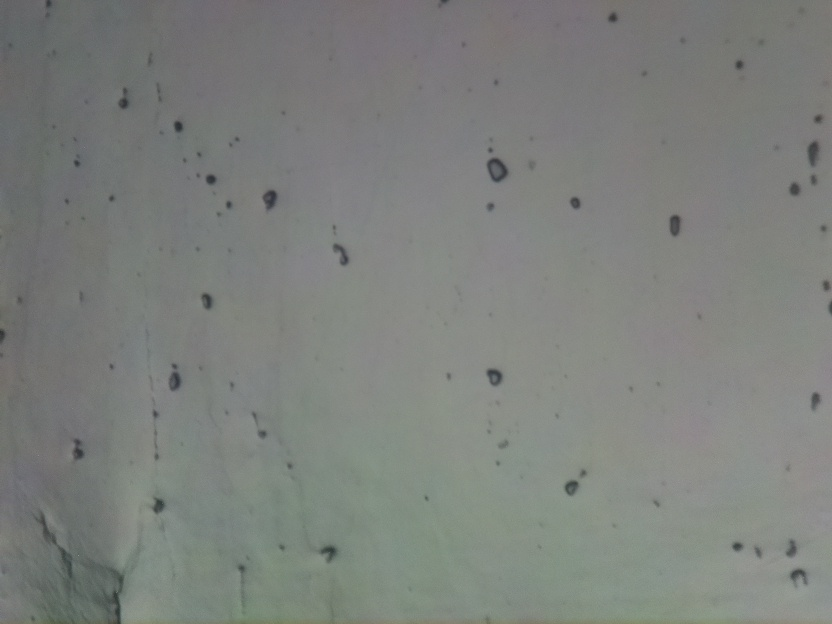crack: (28, 502, 78, 583), (100, 577, 131, 624)
